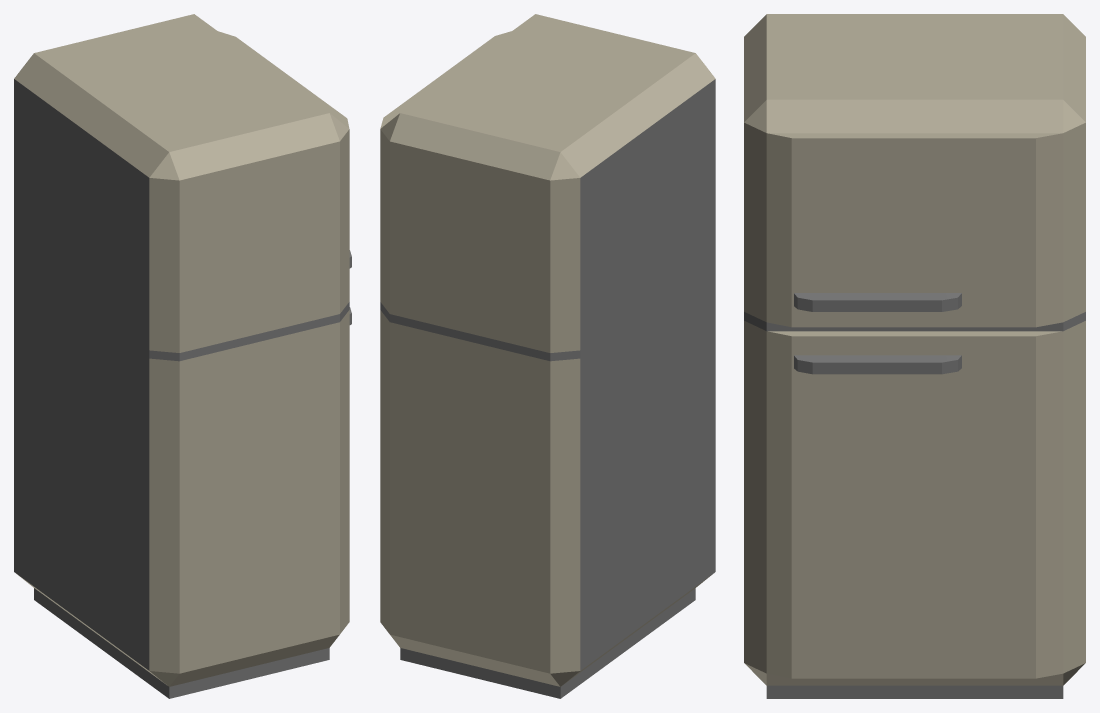
Rendered from S_Fridge.fbx.
3 renders of one model, left to right at view 1: azimuth 30°, elevation 25°; view 2: azimuth 150°, elevation 25°; view 3: azimuth 270°, elevation 25°, orthographic. The views are drawn at different scales.
Visible parts, largest first — view 1: S_Fridge; view 2: S_Fridge; view 3: S_Fridge.
Part boxes in pixels (x1,y1,x2,y2): S_Fridge: [14, 14, 351, 698]; S_Fridge: [380, 14, 715, 698]; S_Fridge: [744, 14, 1085, 698].
Bounding box in the file's own units: 79.77 × 188 × 97.2.
